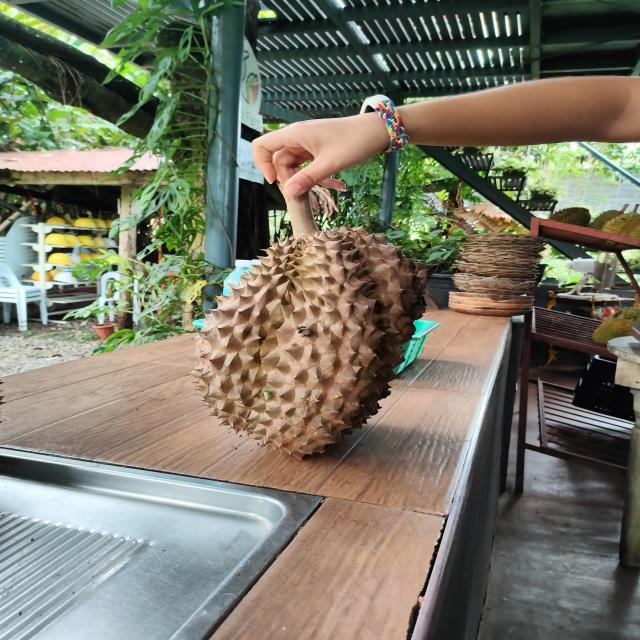mature: (193, 228, 427, 459)
